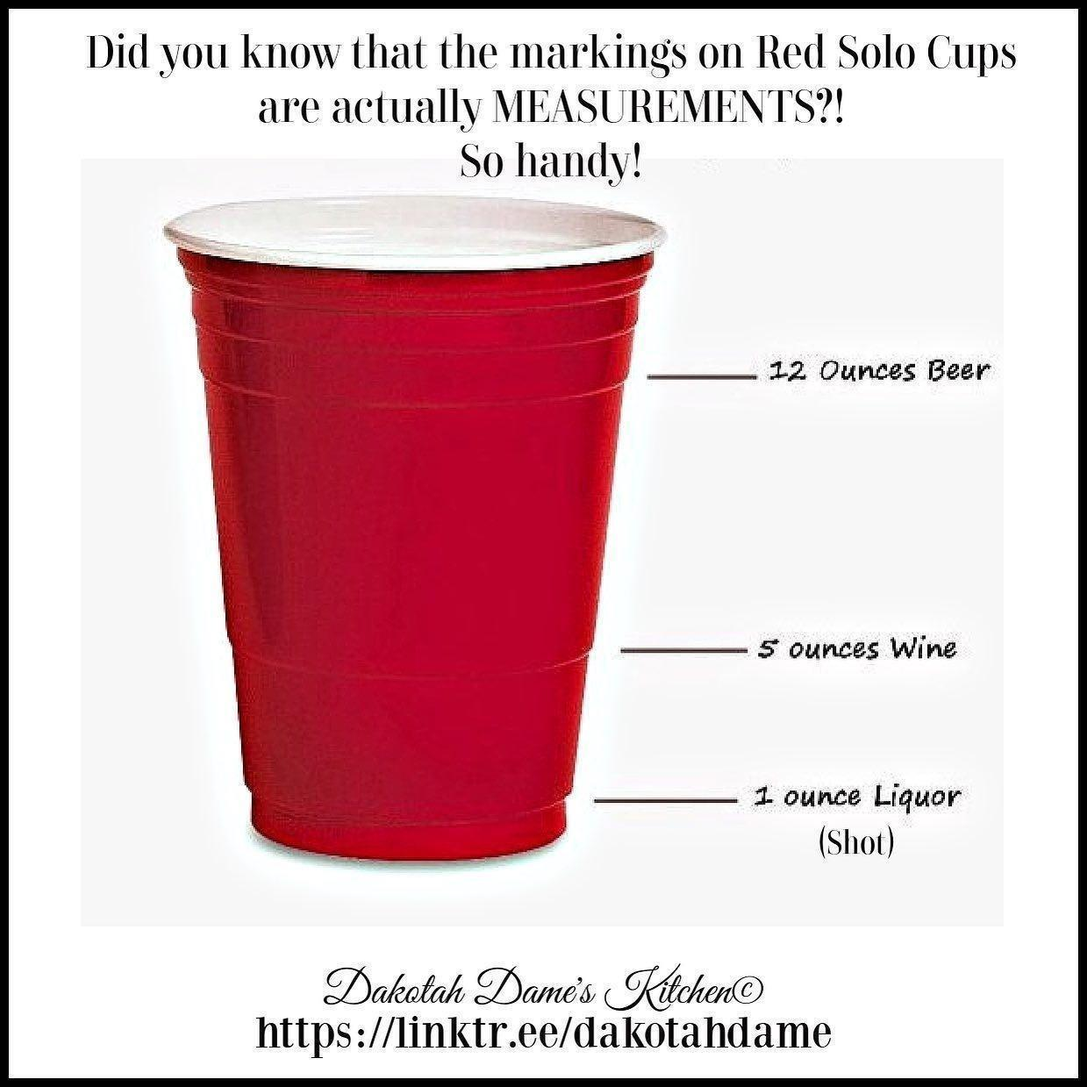cup-disposable: (168, 175, 678, 876)
